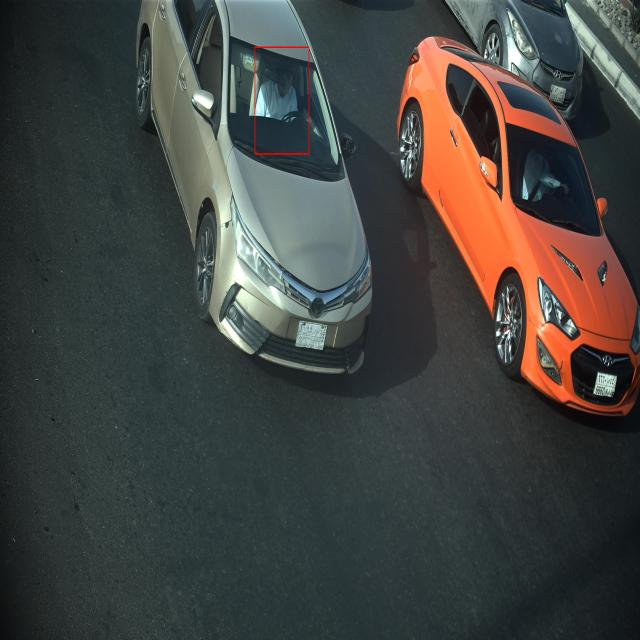windshield: (225, 31, 346, 184), (506, 118, 605, 240)
